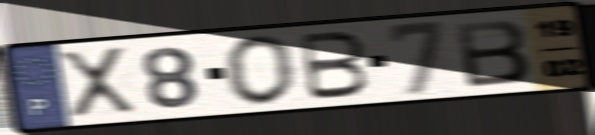7: (384, 17, 449, 98)
8: (141, 45, 204, 110)
B: (452, 17, 534, 90), (299, 29, 372, 102)
O: (221, 33, 300, 108)
X: (55, 44, 141, 121)
